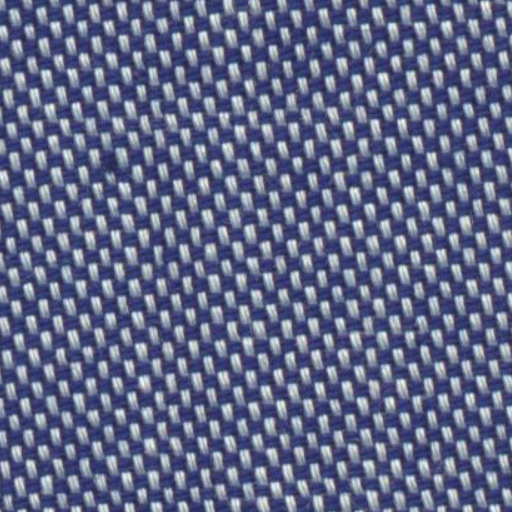MianQiu: (72, 135, 140, 186)
